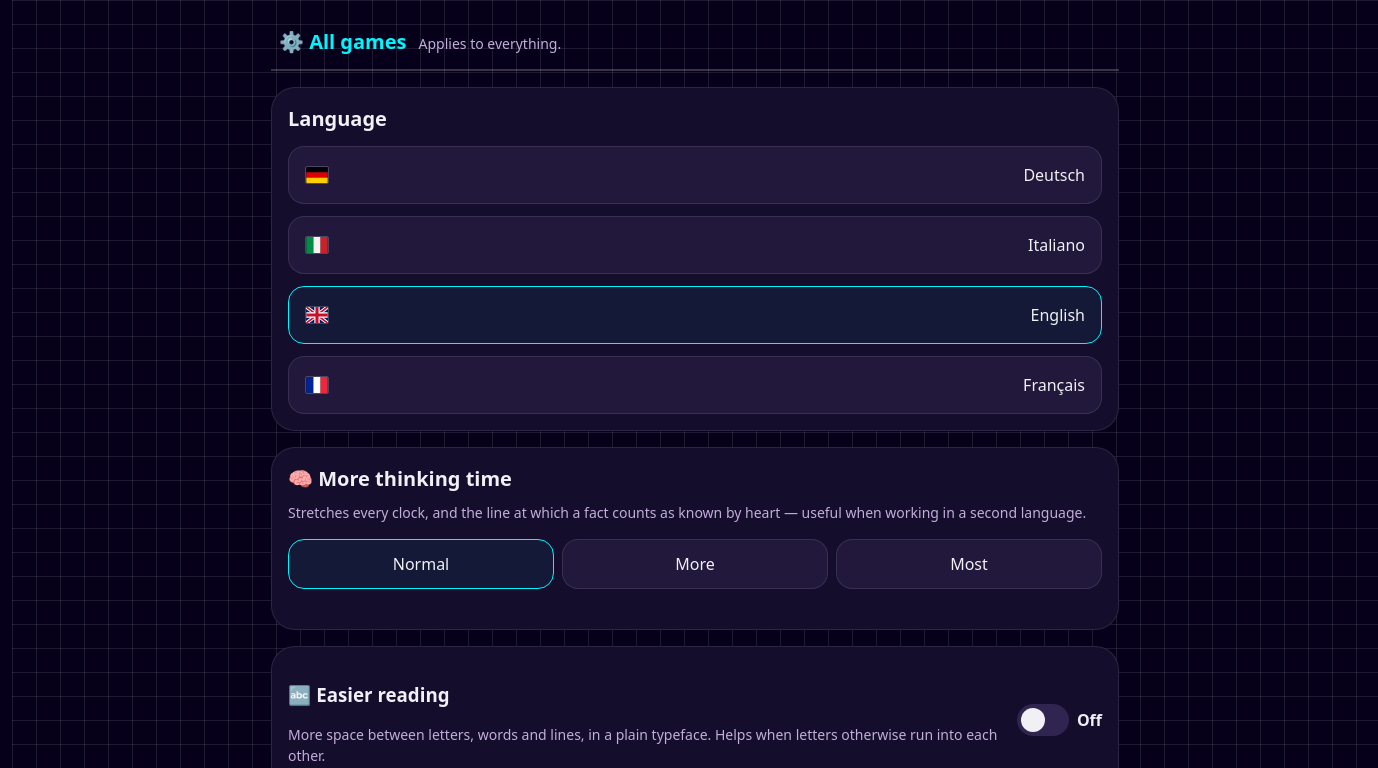
Test: SettingsPage › renders mastery badges and persists translated language changes
(page scrolled)
Click the button "Français" at (1054, 385), box 288,356 -> 1102,414
(page scrolled)
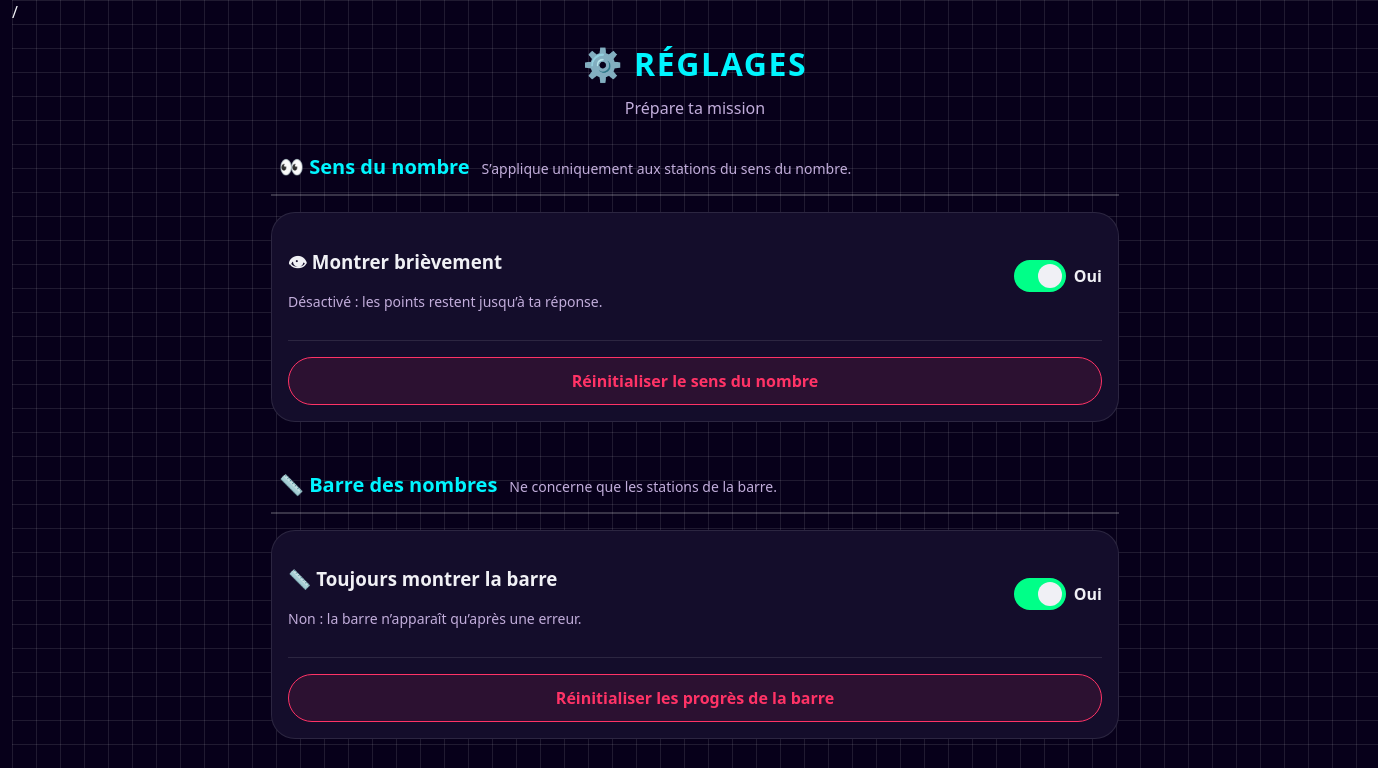
Expected: the heading "⚙️ Réglages" is shown, 583,42 -> 807,85
